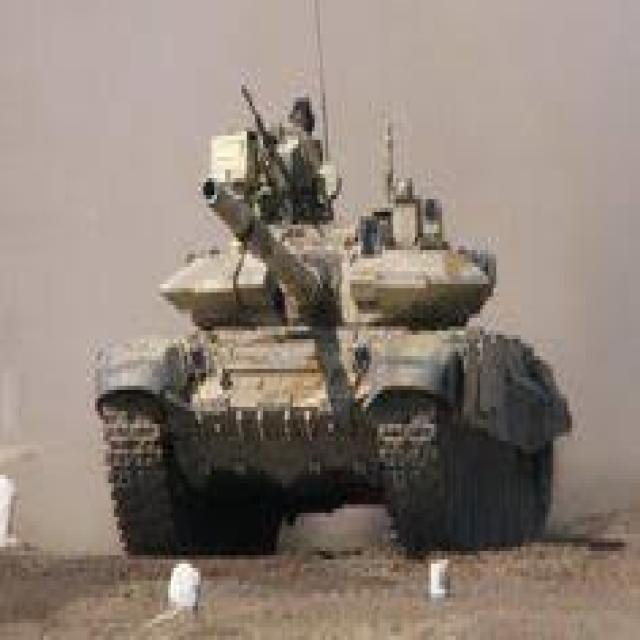MIL_MBT: (68, 45, 567, 595)
